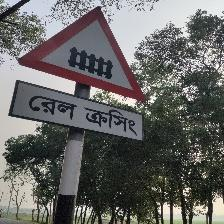Rail-crossing: (9, 5, 148, 144)
